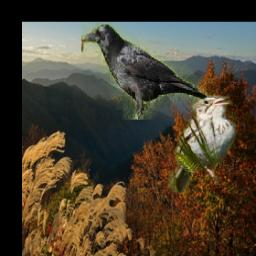Crow: (82, 23, 208, 120)
Sparrow: (168, 96, 236, 194)
